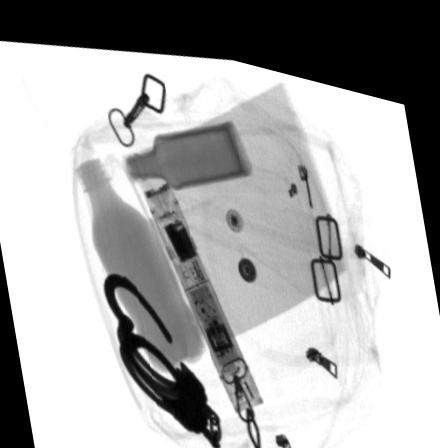Baton: (141, 169, 265, 401)
HandCuffs: (101, 265, 223, 439)
